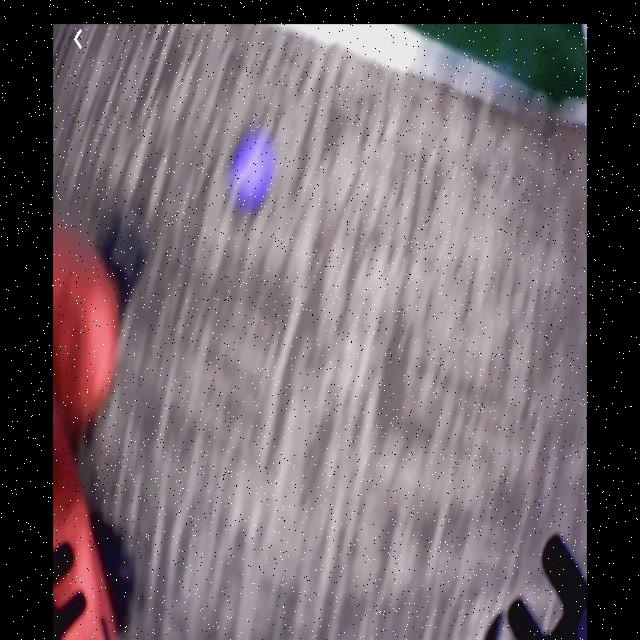ball: (237, 138, 275, 199)
